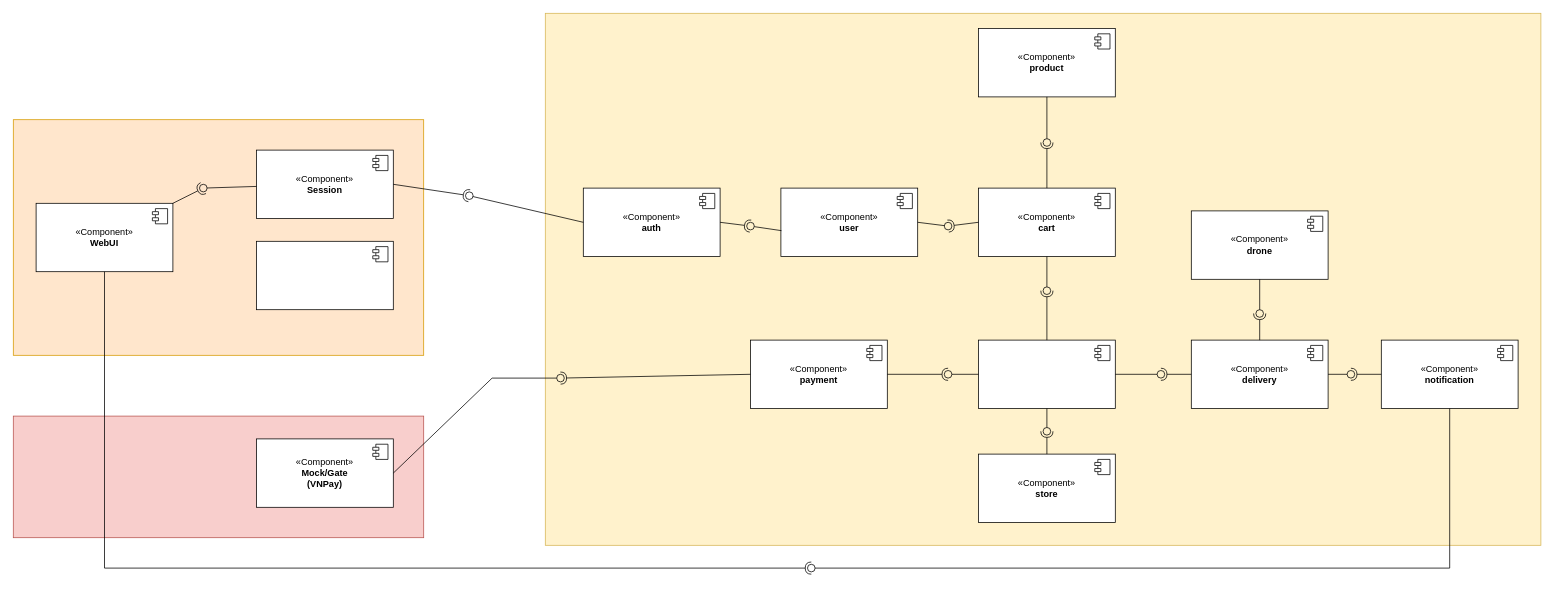
The diagram is 1554 pixels wide and 591 high, and some of its shapes have lost their labels. The shapes that lost their labels are listed below. From the top down, each one's centre as x and y in pixels, then its label:
At (x=324, y=275): "«Component» Socket".
At (x=1046, y=373): "«Component» order".
